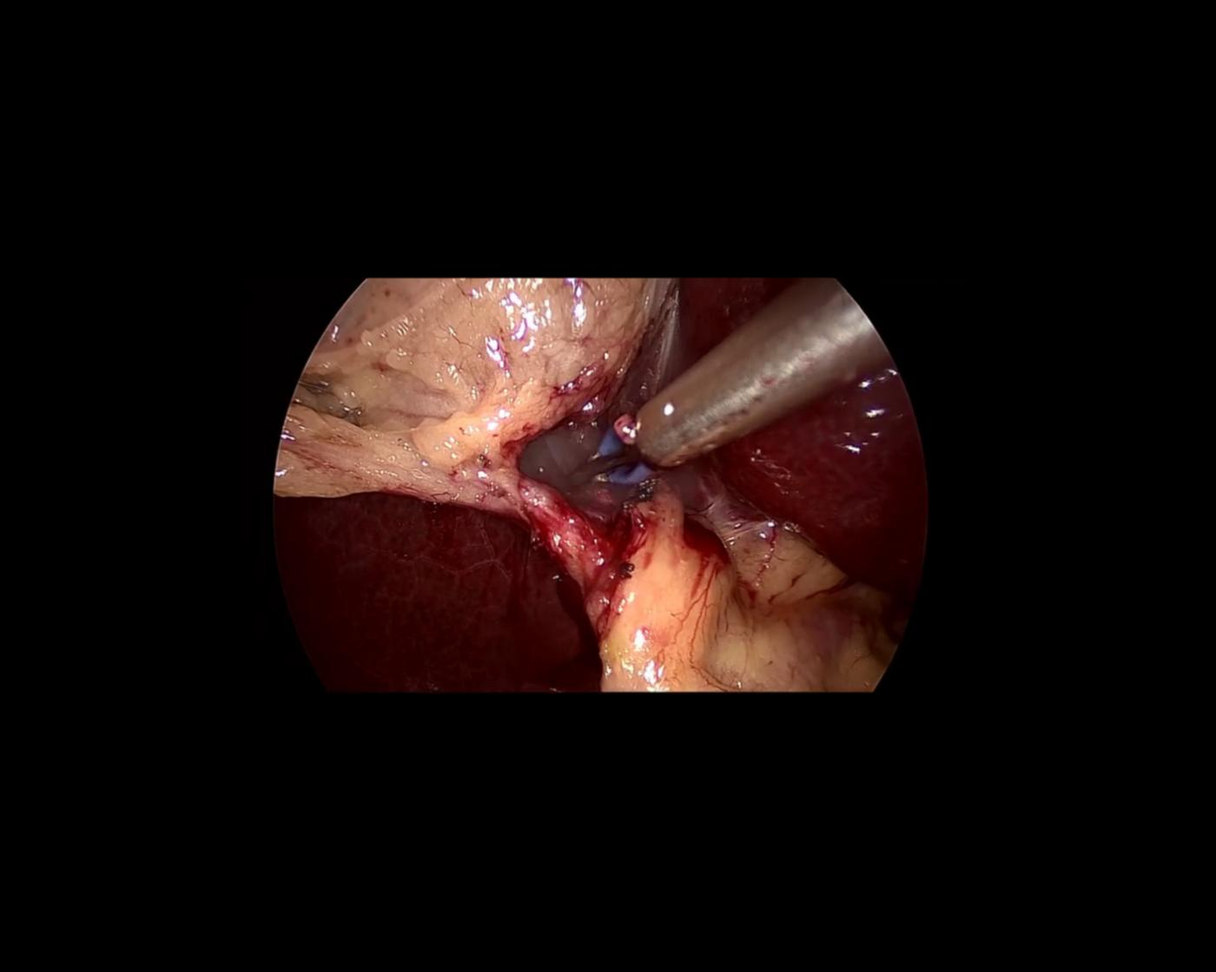Allis: (552, 255, 898, 503)
Gallbladder: (276, 275, 669, 500)
Liver: (662, 227, 963, 632), (276, 493, 600, 692)
